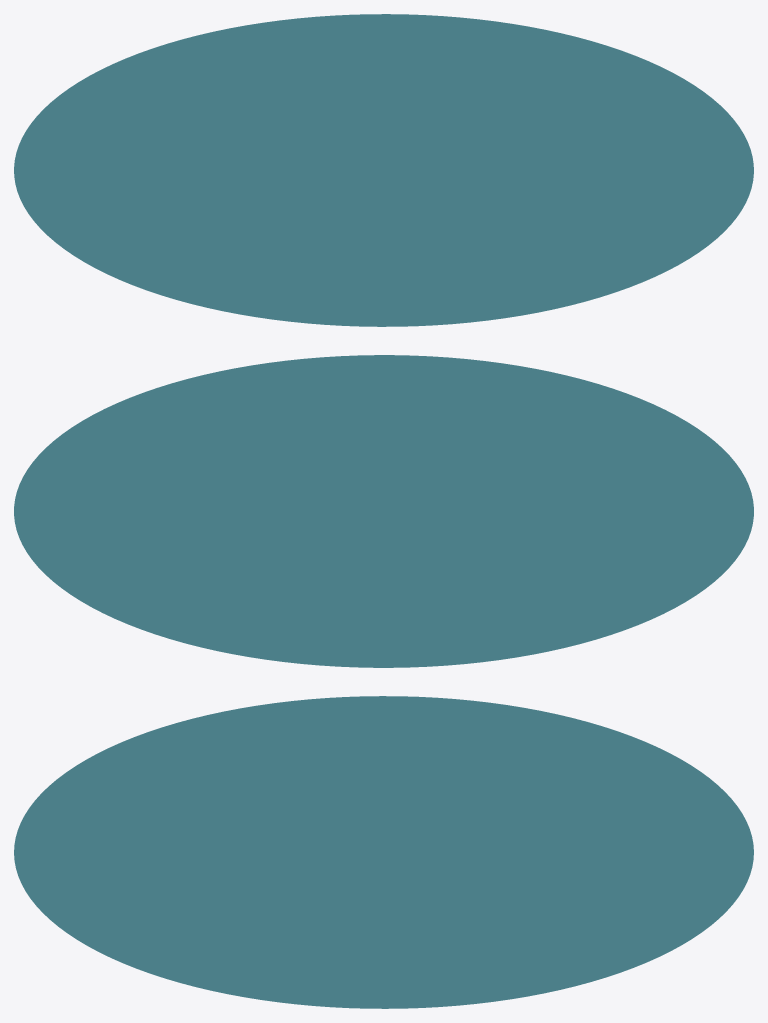
Rendered from Water.fbx.
The picture shows the model from 3 angles, top to bottom: view 1: azimuth 30°, elevation 25°; view 2: azimuth 150°, elevation 25°; view 3: azimuth 270°, elevation 25°; orthographic projection.
Parts seen in each view (by area): view 1: 浅水与平面反射; view 2: 浅水与平面反射; view 3: 浅水与平面反射.
Part boxes in pixels (<box>): 浅水与平面反射: <box>14,14,753,326</box>; 浅水与平面反射: <box>14,355,753,667</box>; 浅水与平面反射: <box>14,696,753,1008</box>.
Size of the model in its own units: 5800 by 0.000231 by 5800.
